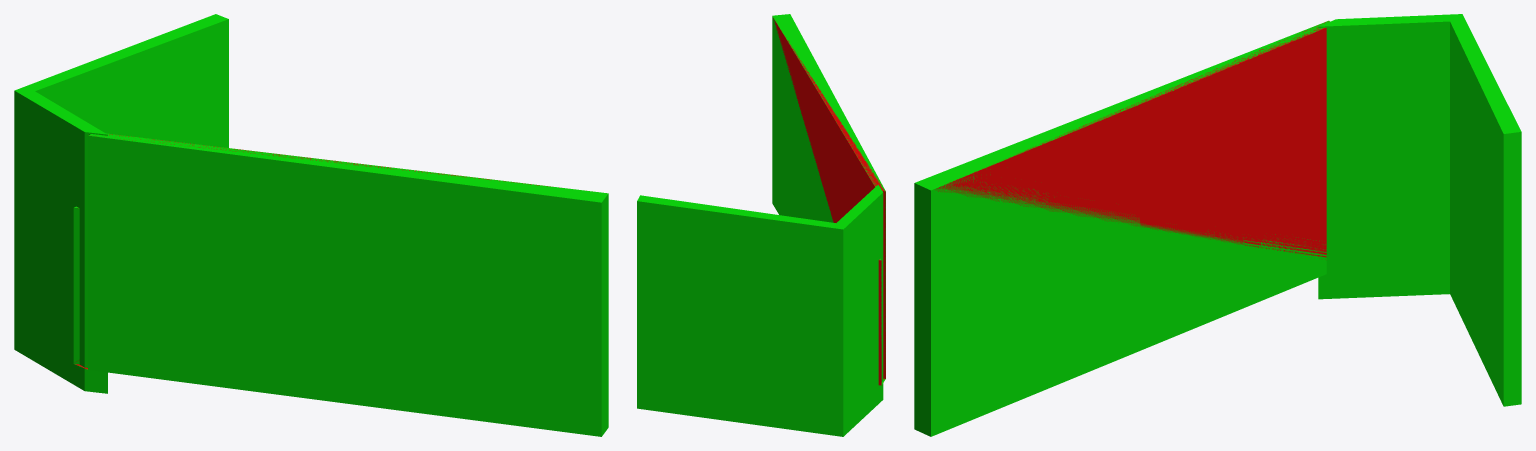
File: InvisibleWall_011.fbx
3 renders of one model, left to right at view 1: azimuth 30°, elevation 25°; view 2: azimuth 150°, elevation 25°; view 3: azimuth 270°, elevation 25°, orthographic. The views are drawn at different scales.
Visible parts, largest first — view 1: Designer110, Designer134; view 2: Designer134, Designer110, InvisibleWall_011_Phys; view 3: Designer110, Designer134, InvisibleWall_011_Phys.
Boxes of the visible parts, x1,y1,x2,y2 form: Designer110: [73, 133, 608, 436]; Designer134: [14, 14, 228, 393]; Designer134: [637, 184, 883, 436]; Designer110: [772, 14, 885, 384]; InvisibleWall_011_Phys: [773, 18, 885, 385]; Designer110: [914, 20, 1329, 436]; Designer134: [1318, 14, 1521, 406]; InvisibleWall_011_Phys: [936, 21, 1328, 259].
Size of the model in its own units: 3775 by 2738 by 5525.
